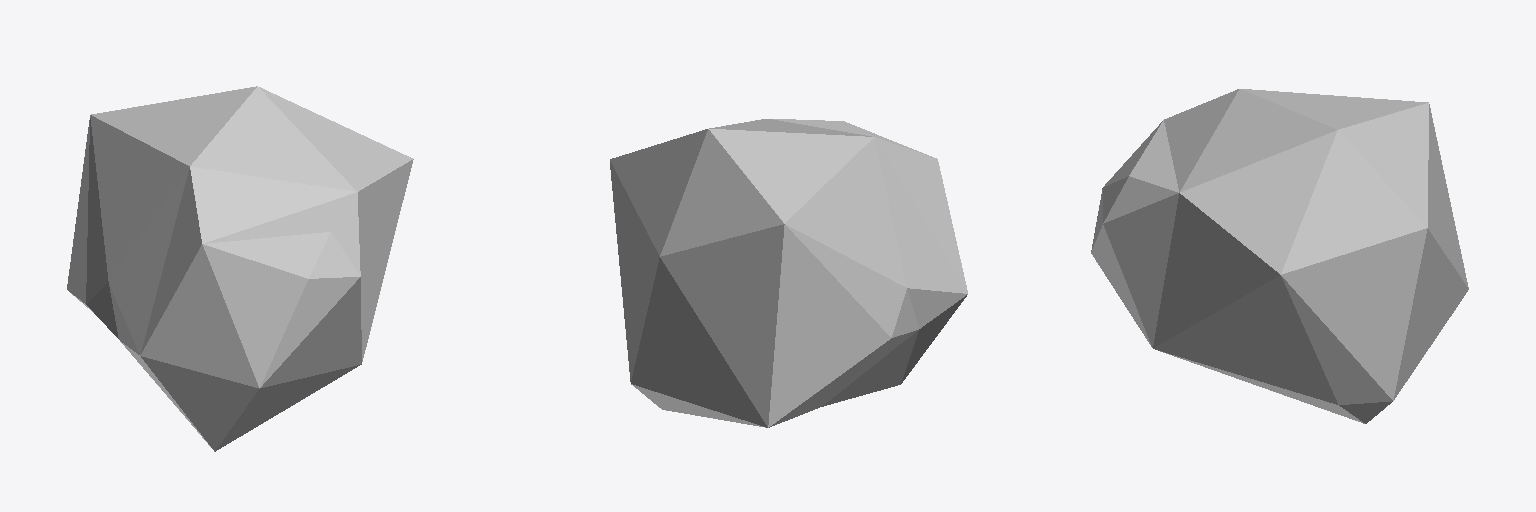
Rendered from Copper_Nugget_Small.obj.
3 views of the same model, side by side, from view 1: azimuth 30°, elevation 25°; view 2: azimuth 150°, elevation 25°; view 3: azimuth 270°, elevation 25° (orthographic).
Visible parts, largest first — view 1: Copper_Nugget_Small; view 2: Copper_Nugget_Small; view 3: Copper_Nugget_Small.
Part boxes in pixels (x1,y1,x2,y2): Copper_Nugget_Small: (67, 86, 413, 451); Copper_Nugget_Small: (610, 119, 967, 427); Copper_Nugget_Small: (1091, 89, 1468, 423).
Bounding box in the file's own units: 0.1411 × 0.1204 × 0.1461.